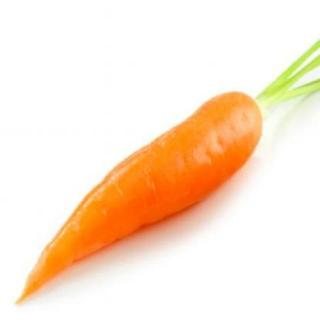carrot: (12, 84, 264, 313)
